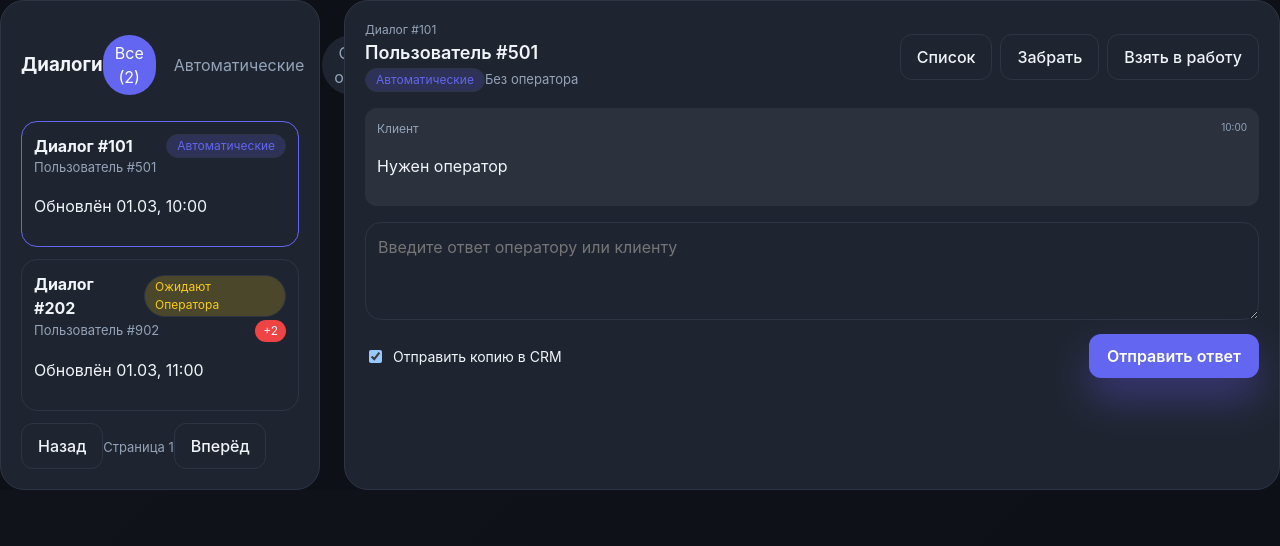
Scenario: DialogsView › loads dialogs, switches selection and sends replies
Expected: the button "Диалог #101" is shown, [21,121,299,246]
Expected: the text "Диалог #101" below "Диалоги" is shown, [34,134,133,158]
Click the button "Диалог #202" at (160, 334), box [21,258,299,410]
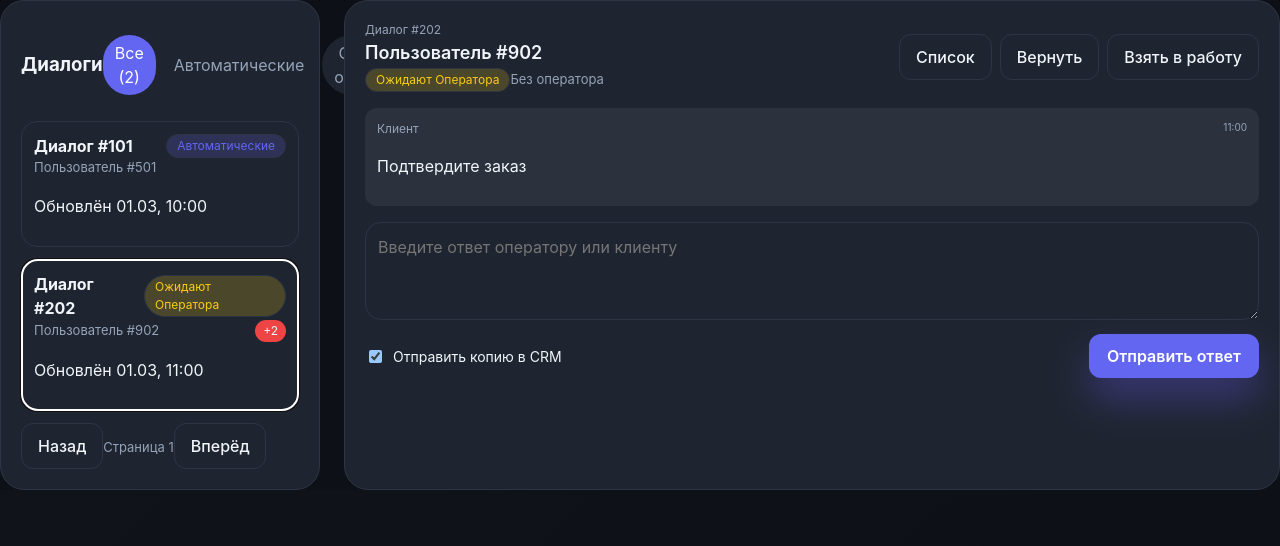
Now the 1st text "Диалог #202" is shown, box [365,22,441,37]
Type "Ответ клиенту" into the text box with placeholder "Введите ответ оператору или клиенту" at (812, 271), box [365,222,1259,320]
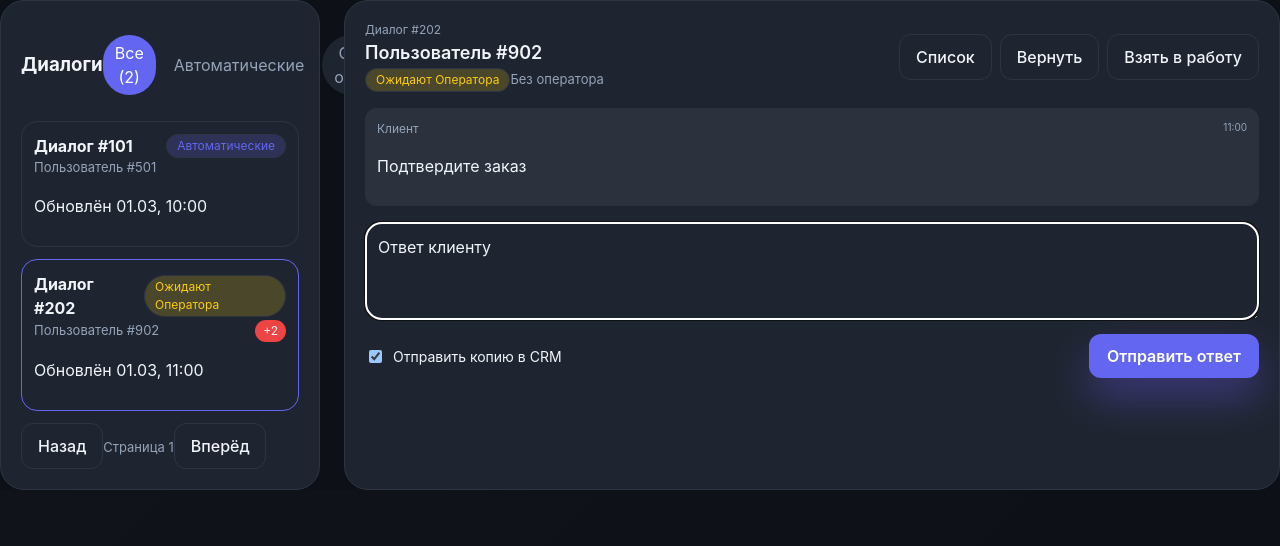
Click the button "Отправить ответ" at (1174, 356), box [1089,334,1259,378]
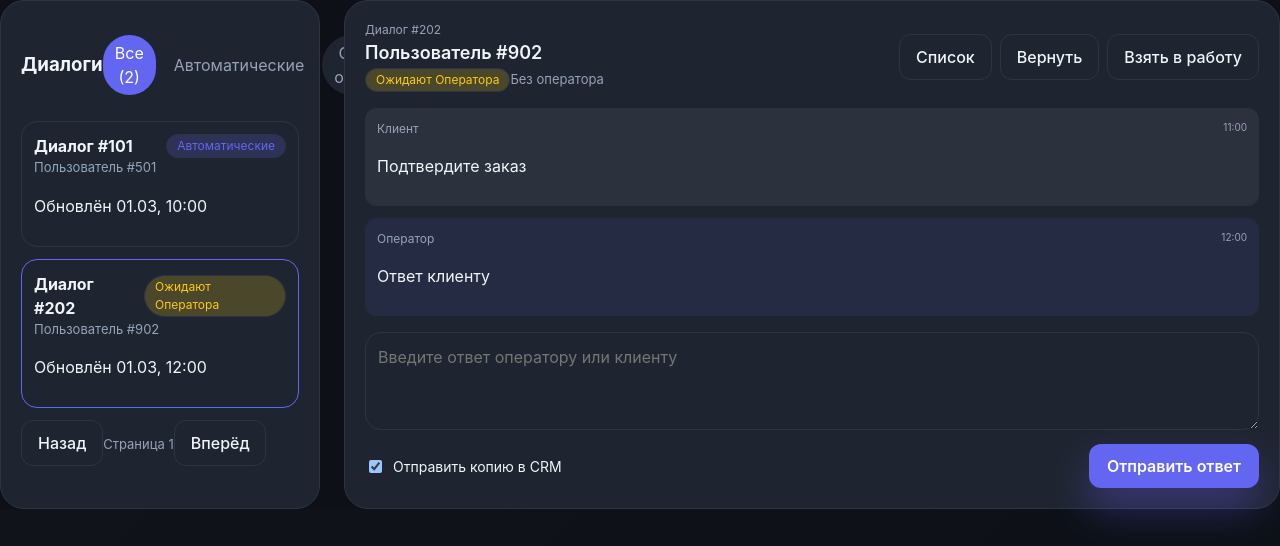
Now the text "Ответ клиенту" is shown, box [377,266,490,286]
Now the text box with placeholder "Введите ответ оператору или клиенту" is empty, box [365,332,1259,430]
